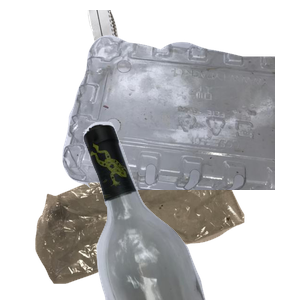glass: (81, 120, 300, 300)
paper: (85, 10, 224, 190)
plastic: (60, 32, 300, 212)
trash: (33, 145, 270, 300)
